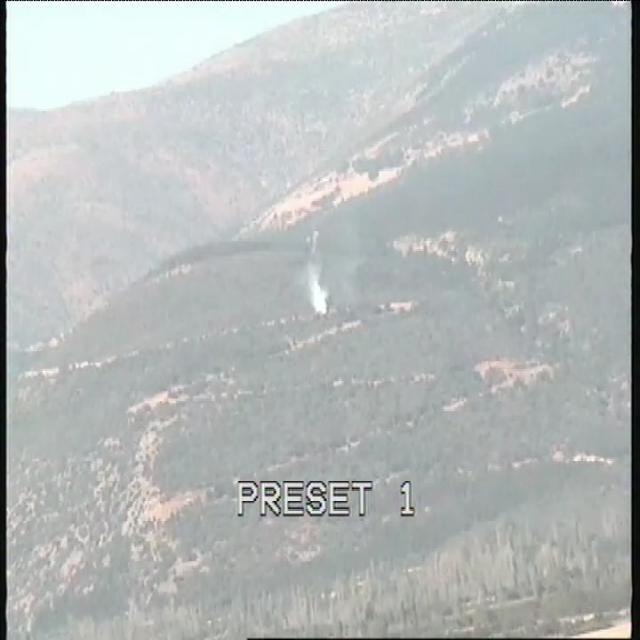smoke: (304, 256, 332, 318)
